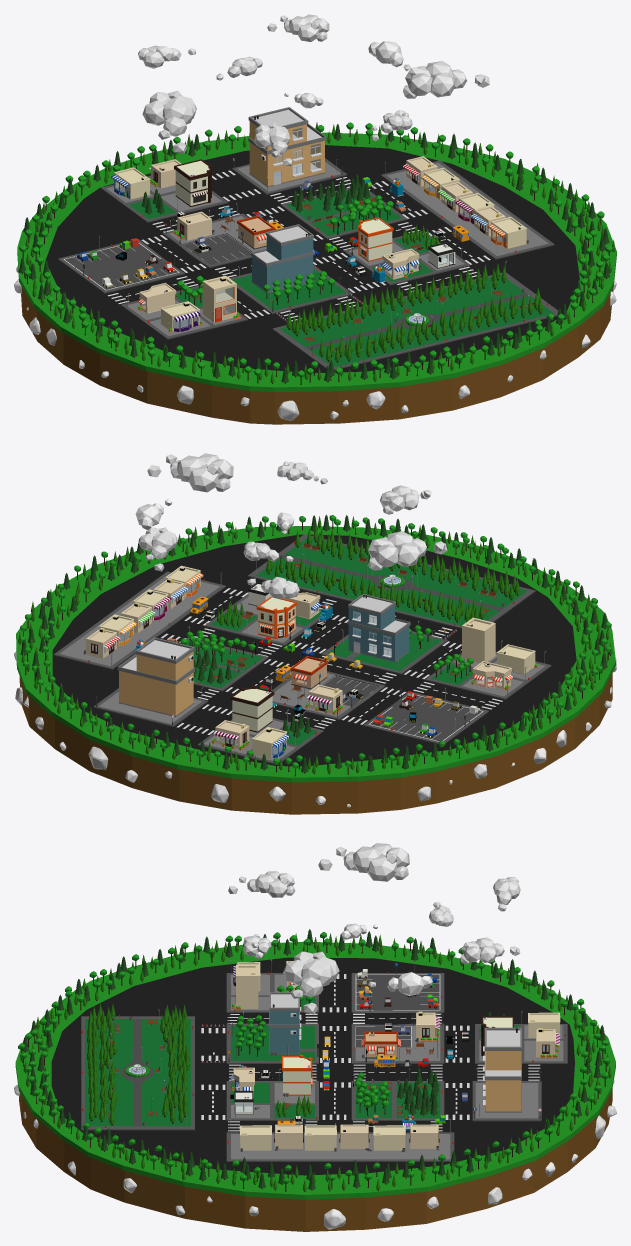
File: city.glb
3 renders of one model, top to bottom at view 1: azimuth 30°, elevation 25°; view 2: azimuth 150°, elevation 25°; view 3: azimuth 270°, elevation 25°, orthographic.
Visible parts, largest first — view 1: object 14, Plane.036, superpino.008, Plane, villa.002, villa, Icosphere.020, Nuvole grande.001, Nuvole grande.005, pino.006, pino.008, albergo.002 (+25 smaller); view 2: object 14, Plane.036, superpino.008, Plane, villa.002, villa, Icosphere.020, Nuvole grande.005, Nuvole grande.001, albergo.002, pino.009, albergo (+24 smaller); view 3: object 14, Plane.036, superpino.008, Plane, villa.002, Nuvole grande.001, Nuvole grande.005, Icosphere.020, villa, pino.010, albergo, Nuvole grande.003 (+20 smaller).
Part boxes in pixels (x1=…): object 14: x1=17, y1=132, x2=616, y2=424; Plane.036: x1=58, y1=158, x2=561, y2=370; superpino.008: x1=18, y1=122, x2=615, y2=384; Plane: x1=162, y1=185, x2=470, y2=313; villa.002: x1=248, y1=107, x2=326, y2=187; villa: x1=251, y1=224, x2=314, y2=292; Icosphere.020: x1=14, y1=266, x2=616, y2=420; Nuvole grande.001: x1=142, y1=90, x2=196, y2=153; Nuvole grande.005: x1=403, y1=61, x2=489, y2=98; pino.006: x1=335, y1=296, x2=542, y2=362; pino.008: x1=291, y1=266, x2=506, y2=336; albergo.002: x1=174, y1=159, x2=212, y2=206; object 14: x1=16, y1=526, x2=615, y2=814; Plane.036: x1=53, y1=534, x2=551, y2=764; superpino.008: x1=18, y1=514, x2=612, y2=776; Plane: x1=186, y1=593, x2=447, y2=719; villa.002: x1=117, y1=637, x2=194, y2=716; villa: x1=347, y1=594, x2=410, y2=662; Icosphere.020: x1=14, y1=652, x2=616, y2=807; Nuvole grande.005: x1=147, y1=453, x2=233, y2=492; Nuvole grande.001: x1=368, y1=531, x2=447, y2=570; albergo.002: x1=231, y1=685, x2=274, y2=732; pino.009: x1=266, y1=560, x2=474, y2=621; albergo: x1=256, y1=596, x2=296, y2=638; object 14: x1=15, y1=941, x2=615, y2=1231; Plane.036: x1=81, y1=973, x2=567, y2=1161; superpino.008: x1=18, y1=929, x2=611, y2=1191; Plane: x1=226, y1=1023, x2=444, y2=1120; villa.002: x1=483, y1=1027, x2=521, y2=1112; Nuvole grande.001: x1=318, y1=843, x2=409, y2=881; Nuvole grande.005: x1=283, y1=951, x2=339, y2=1014; Icosphere.020: x1=14, y1=1079, x2=616, y2=1229; villa: x1=269, y1=992, x2=301, y2=1054; pino.010: x1=95, y1=1003, x2=189, y2=1125; albergo: x1=282, y1=1054, x2=312, y2=1095; Nuvole grande.003: x1=228, y1=871, x2=295, y2=897.
Size of the model in its own units: 13565 by 5070 by 13592.
18 materials, 2 textured.
